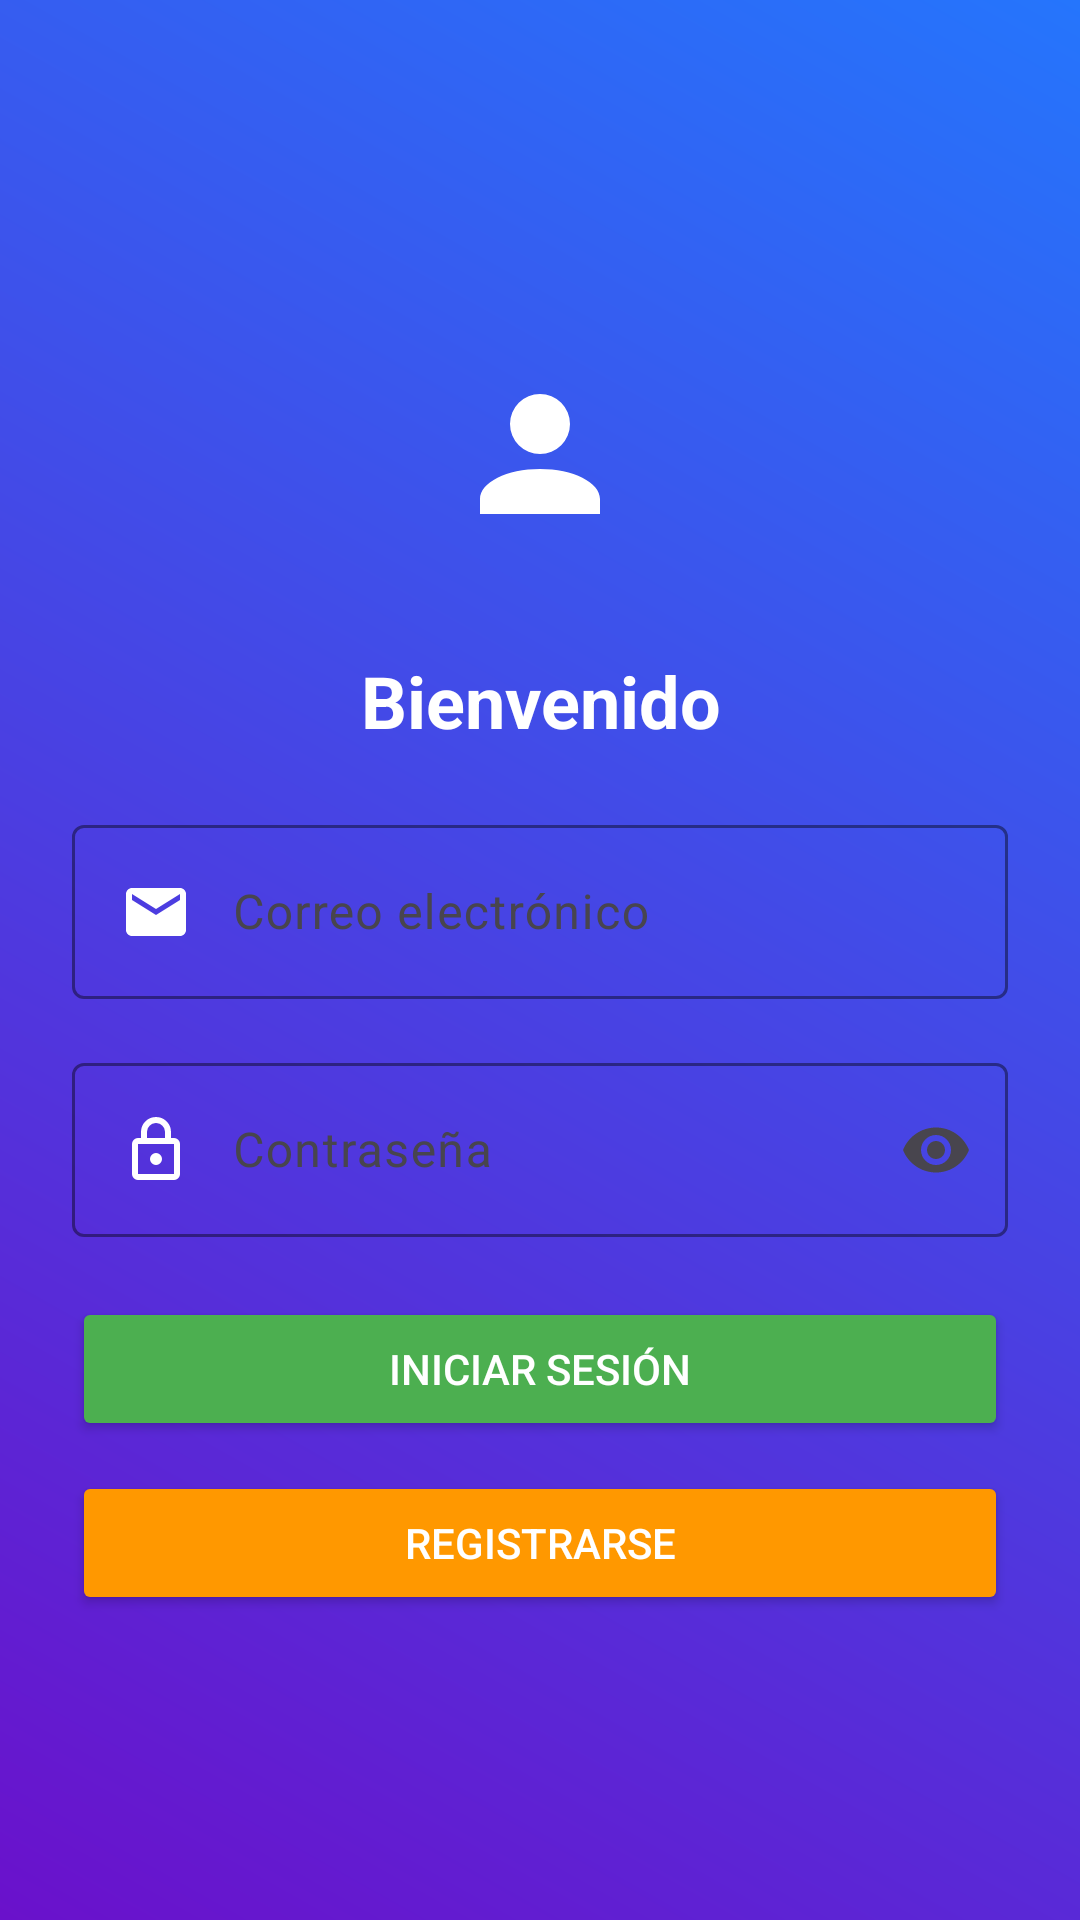

Screen size 1080*1920. Icon name, then its center in pixels as (x=x, y=y):
user: (x=540, y=454)
